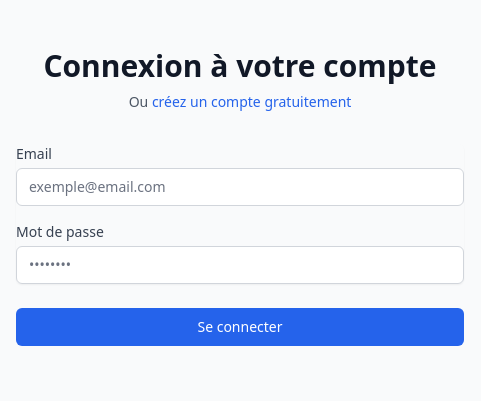
Test: Login Page › connecte l'utilisateur avec des identifiants corrects
Type "test@example.com" into the field labelled "Email" at {"x": 240, "y": 187}, box [16,168,464,206]
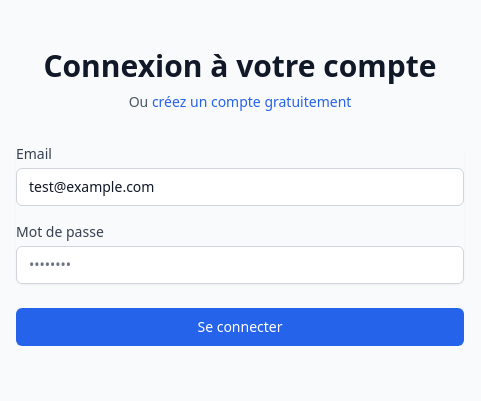
Type "password123" into the password field labelled "Mot de passe" at {"x": 240, "y": 265}, box [16,246,464,284]
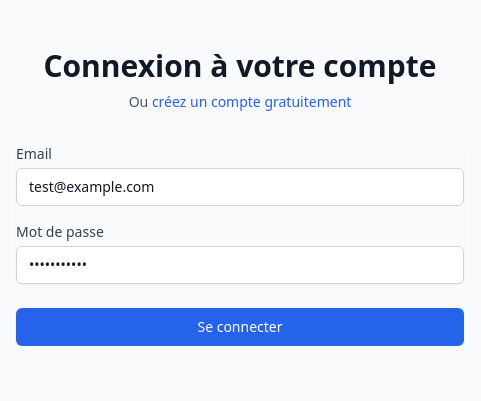
Click the button "Se connecter" at {"x": 240, "y": 327}, box [16,308,464,346]
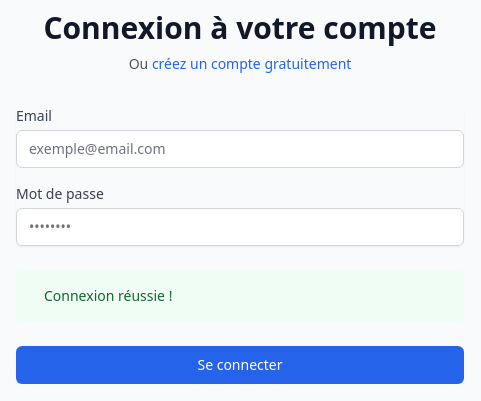
Now the heading "Connexion réussie !" is shown, box [44,286,172,306]
